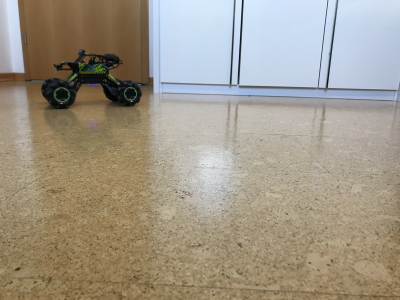remote control car: (39, 47, 145, 112)
